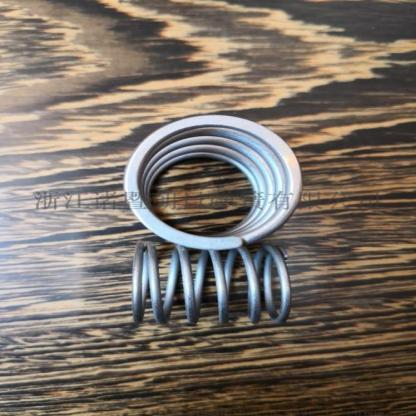FOD: (122, 113, 305, 252), (128, 236, 296, 328)
